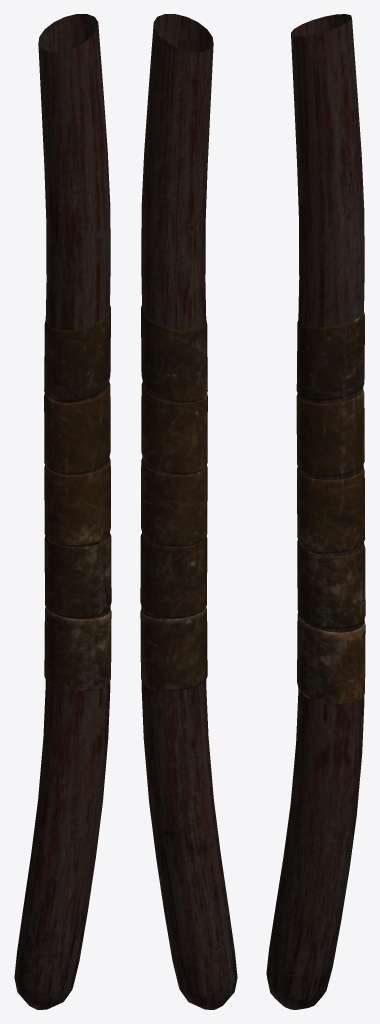
Rendered from wm_mordor_set1_axe_a01_handle.fbx.
3 renders of one model, left to right at view 1: azimuth 30°, elevation 25°; view 2: azimuth 150°, elevation 25°; view 3: azimuth 330°, elevation 25°, orthographic. The views are drawn at different scales.
Visible parts, largest first — view 1: wm_mordor_set1_axe_a01_handle; view 2: wm_mordor_set1_axe_a01_handle; view 3: wm_mordor_set1_axe_a01_handle.
Part boxes in pixels (x1,y1,x2,y2): wm_mordor_set1_axe_a01_handle: [14, 14, 111, 1009]; wm_mordor_set1_axe_a01_handle: [140, 14, 237, 1009]; wm_mordor_set1_axe_a01_handle: [266, 14, 365, 1009].
Size of the model in its own units: 0.0525 by 0.0317 by 0.5456.
1 material, 1 textured.
